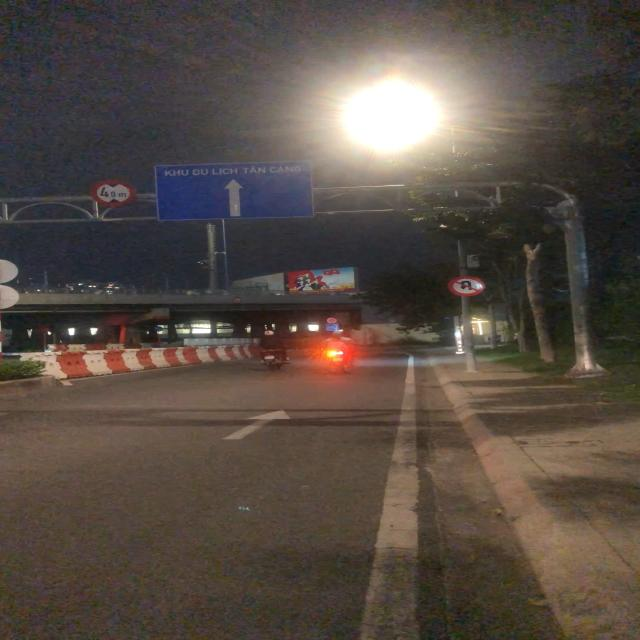Bien bao cam quay dau xe: (446, 276, 485, 297)
Bien bao han che chieu cao: (90, 179, 140, 208)
